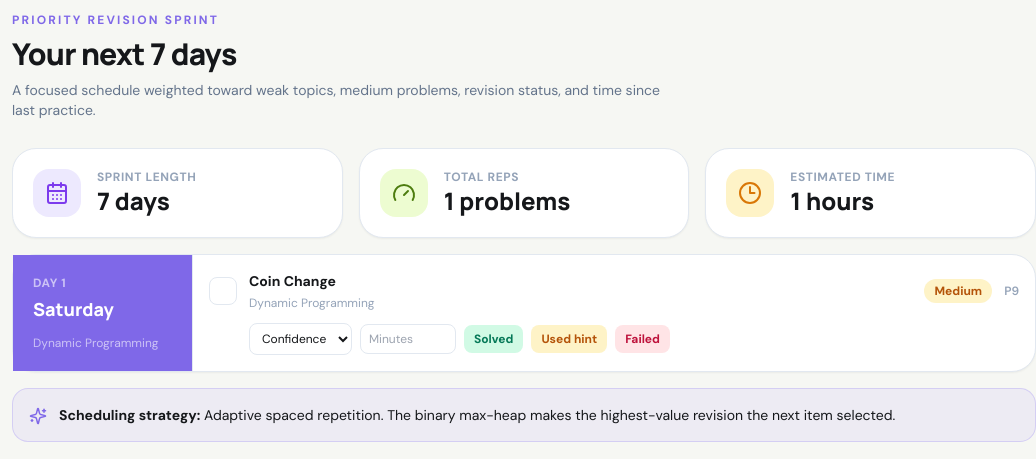
Scenario: RevisionPlanPage adaptive feedback › submits result and confidence and shows the next review
Select "Medium" in the dropdown named "Confidence for Coin Change": [300, 339] box [249,323,352,355]
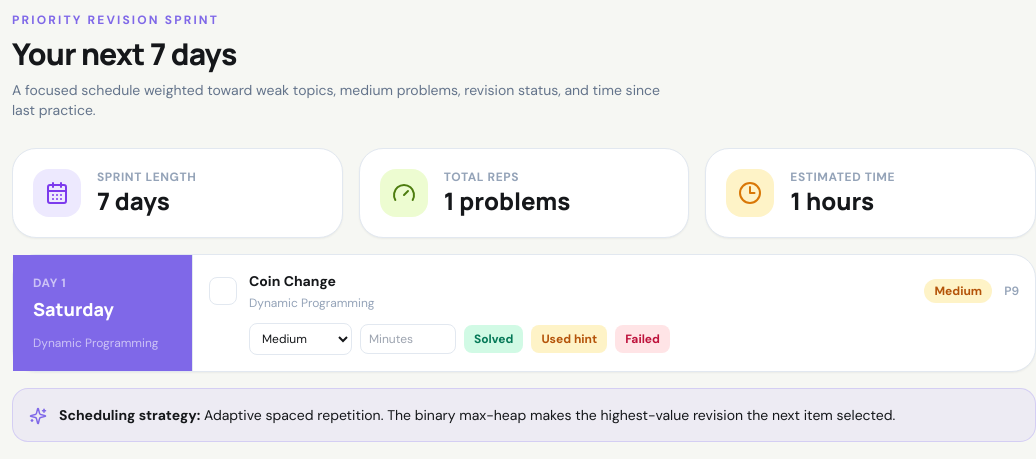
In the number field named "Minutes spent on Coin Change": [408, 339] box [360,324,456,354], type "5"
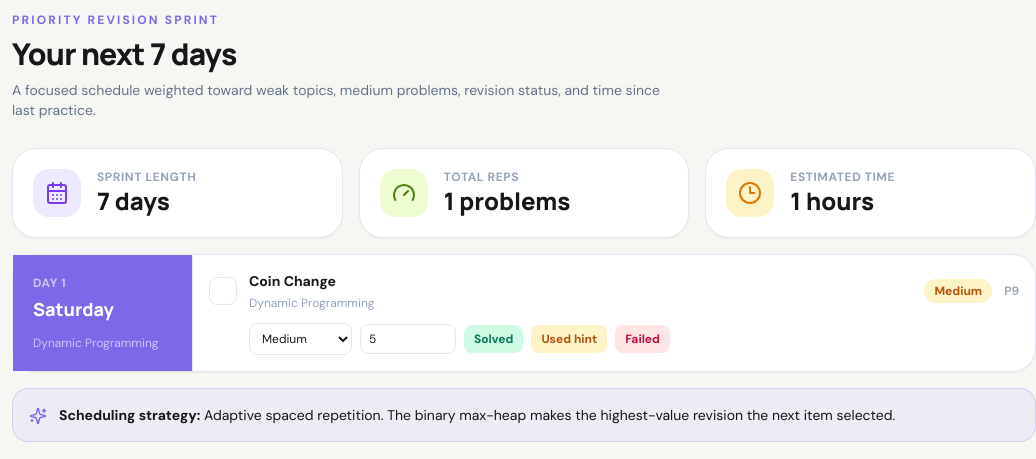
Click the button "Used hint": [569, 339] box [531,325,607,353]
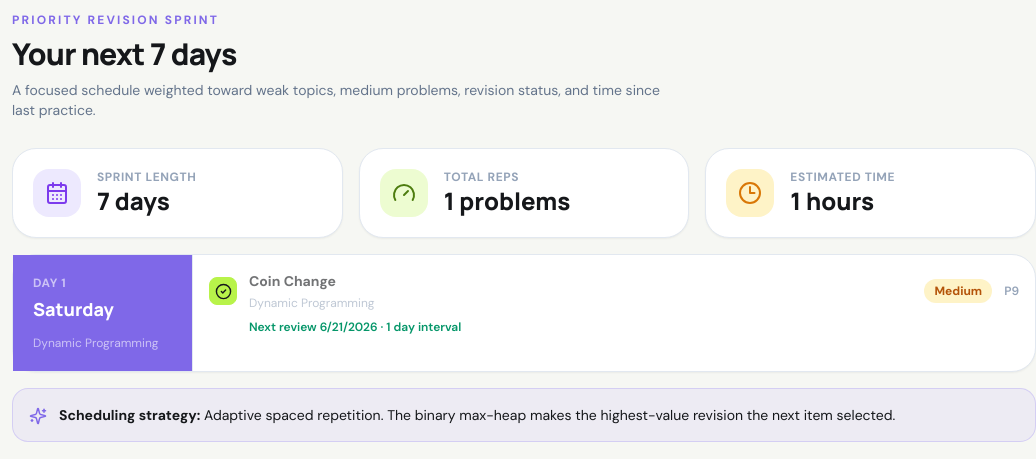
expect the text "Next review 6/21/2026 · 1 day interval" is shown: met, box [249,319,461,335]
